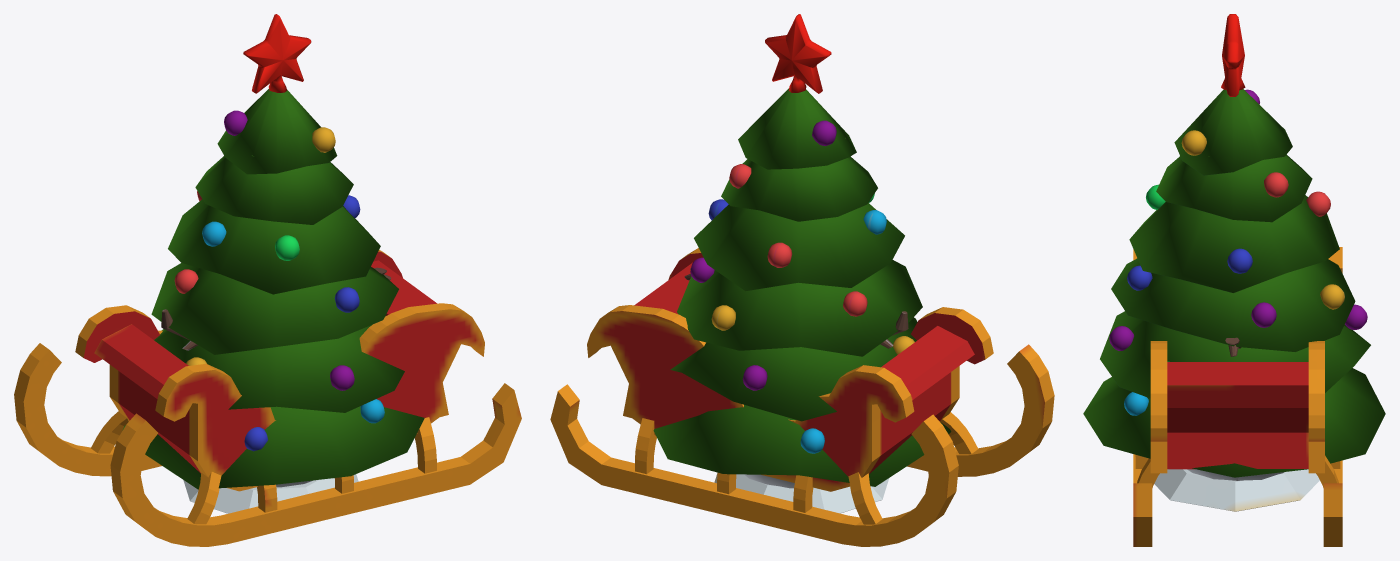
File: christmas_objects.fbx
The picture shows the model from 3 angles, left to right: view 1: azimuth 30°, elevation 25°; view 2: azimuth 150°, elevation 25°; view 3: azimuth 270°, elevation 25°; orthographic projection.
Parts seen in each view (by area): view 1: Christmas tree, Sleigh; view 2: Christmas tree, Sleigh, Snowman; view 3: Christmas tree, Sleigh, Snowman.
Part boxes in pixels (box(x1,y1,x2,y2)): Christmas tree: box(122, 14, 424, 513); Sleigh: box(14, 249, 521, 546); Christmas tree: box(653, 14, 951, 513); Sleigh: box(550, 248, 1054, 546); Snowman: box(684, 268, 908, 488); Christmas tree: box(1083, 14, 1385, 511); Sleigh: box(1133, 247, 1342, 546); Snowman: box(1187, 337, 1284, 480).
Bounding box in the file's own units: 2.47 × 2.75 × 1.63.
